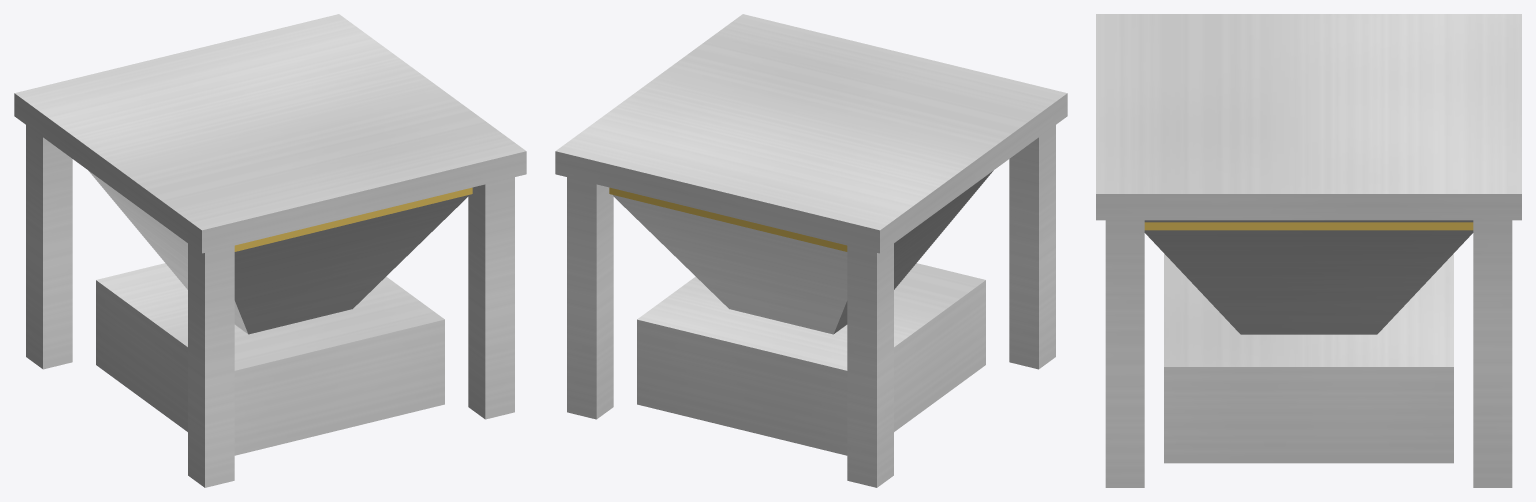
The model's file is hopper.obj.
3 renders of one model, left to right at view 1: azimuth 30°, elevation 25°; view 2: azimuth 150°, elevation 25°; view 3: azimuth 270°, elevation 25°, orthographic. The views are drawn at different scales.
Parts seen in each view (by area): view 1: hopper; view 2: hopper; view 3: hopper.
Boxes of the visible parts, box(x1,y1,x2,y2) form: hopper: box(14, 14, 526, 487); hopper: box(555, 14, 1067, 487); hopper: box(1096, 14, 1521, 487).
Bounding box in the file's own units: 0.88 × 0.68 × 0.88.
